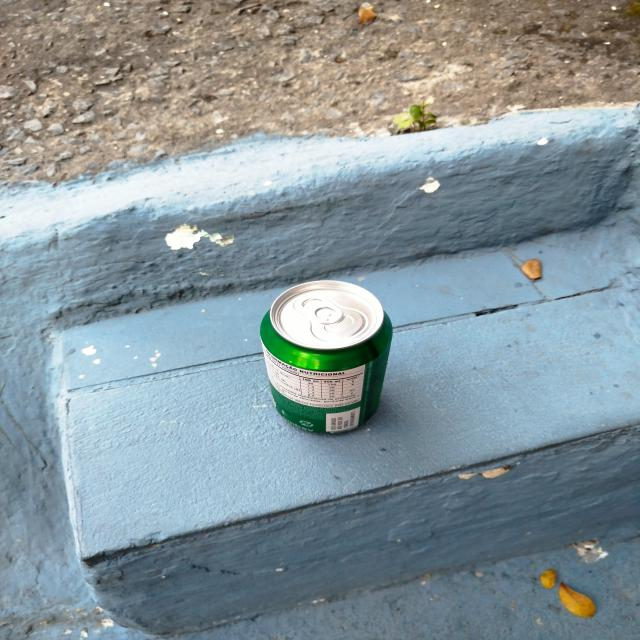Guarana: (262, 281, 396, 432)
